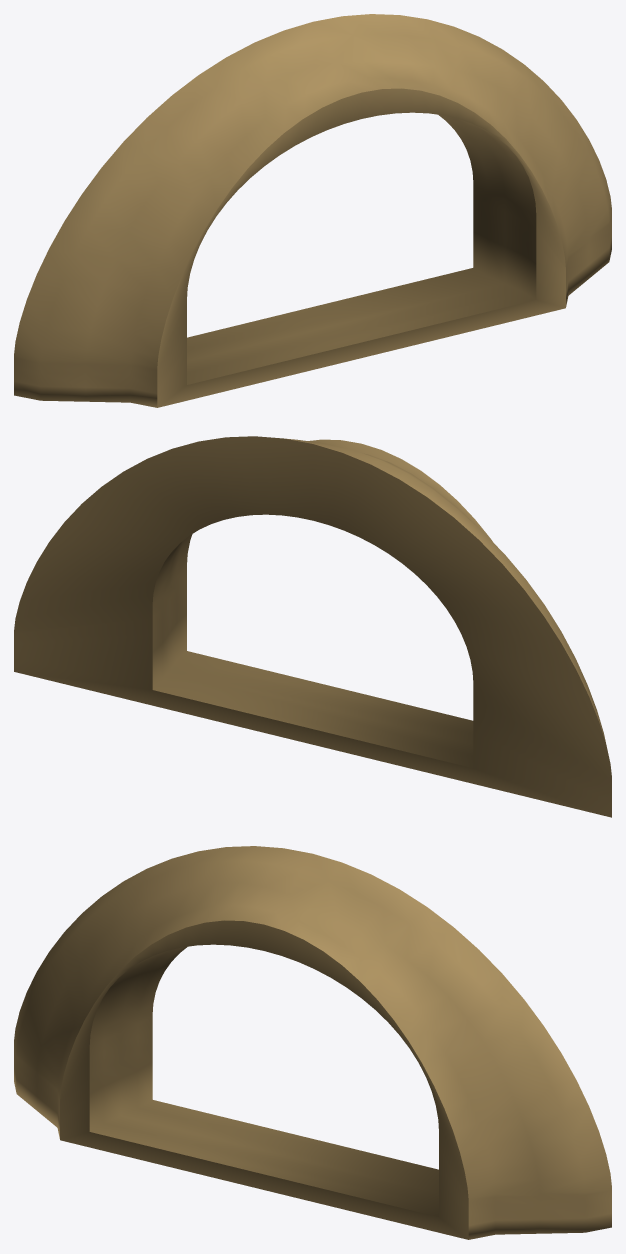
File: portal_entry_terrain_lod1.glb
3 renders of one model, top to bottom at view 1: azimuth 30°, elevation 25°; view 2: azimuth 150°, elevation 25°; view 3: azimuth 330°, elevation 25°, orthographic.
Parts seen in each view (by area): view 1: TerrainRoof.001; view 2: TerrainRoof.001; view 3: TerrainRoof.001.
Part boxes in pixels (left/top/right/bottom): TerrainRoof.001: left=14, top=14, right=611, bottom=407; TerrainRoof.001: left=14, top=436, right=611, bottom=817; TerrainRoof.001: left=14, top=846, right=611, bottom=1239.
Size of the model in its own units: 28.4 by 13.65 by 4.
